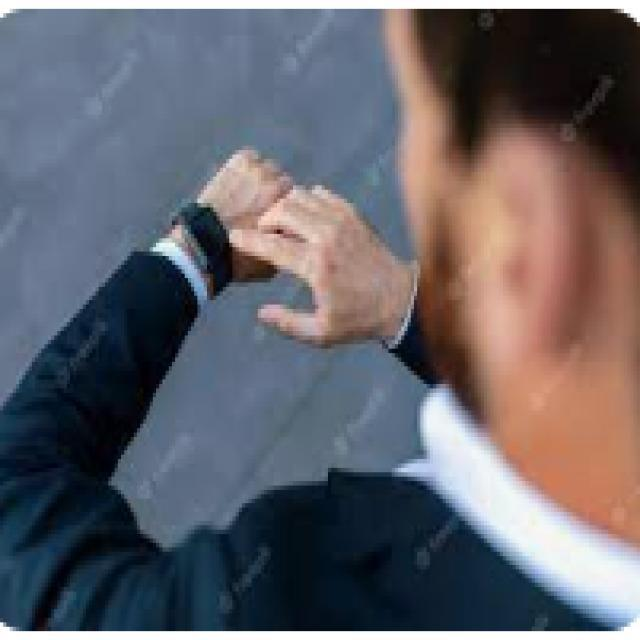Watch: (170, 200, 239, 296)
